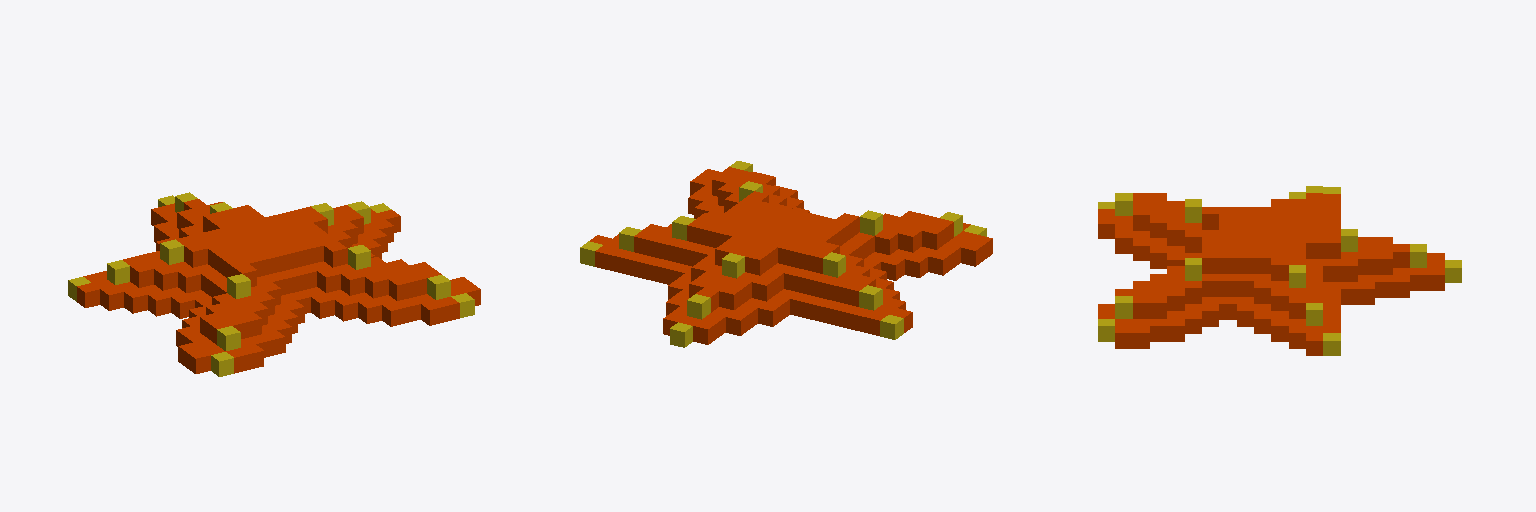
3 views of the same model, side by side, from view 1: azimuth 30°, elevation 25°; view 2: azimuth 150°, elevation 25°; view 3: azimuth 270°, elevation 25° (orthographic).
Size of the model in its own units: 21 by 3 by 21.
Materials: 1 (1 with a texture image).